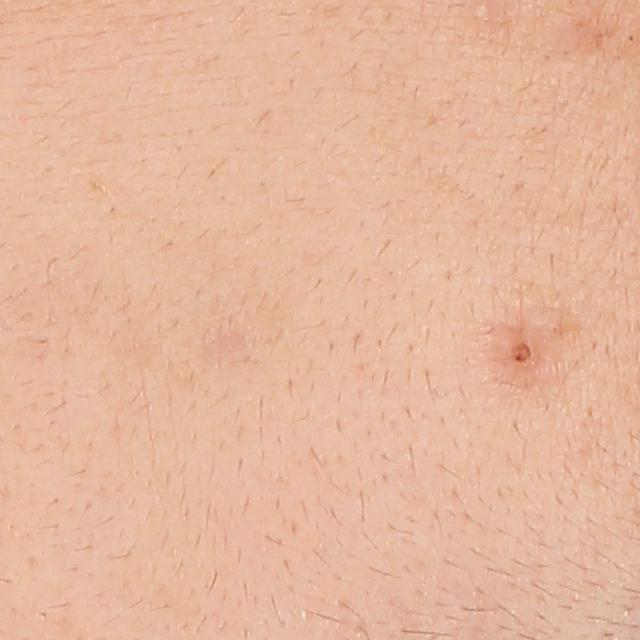papule: (500, 328, 543, 375)
